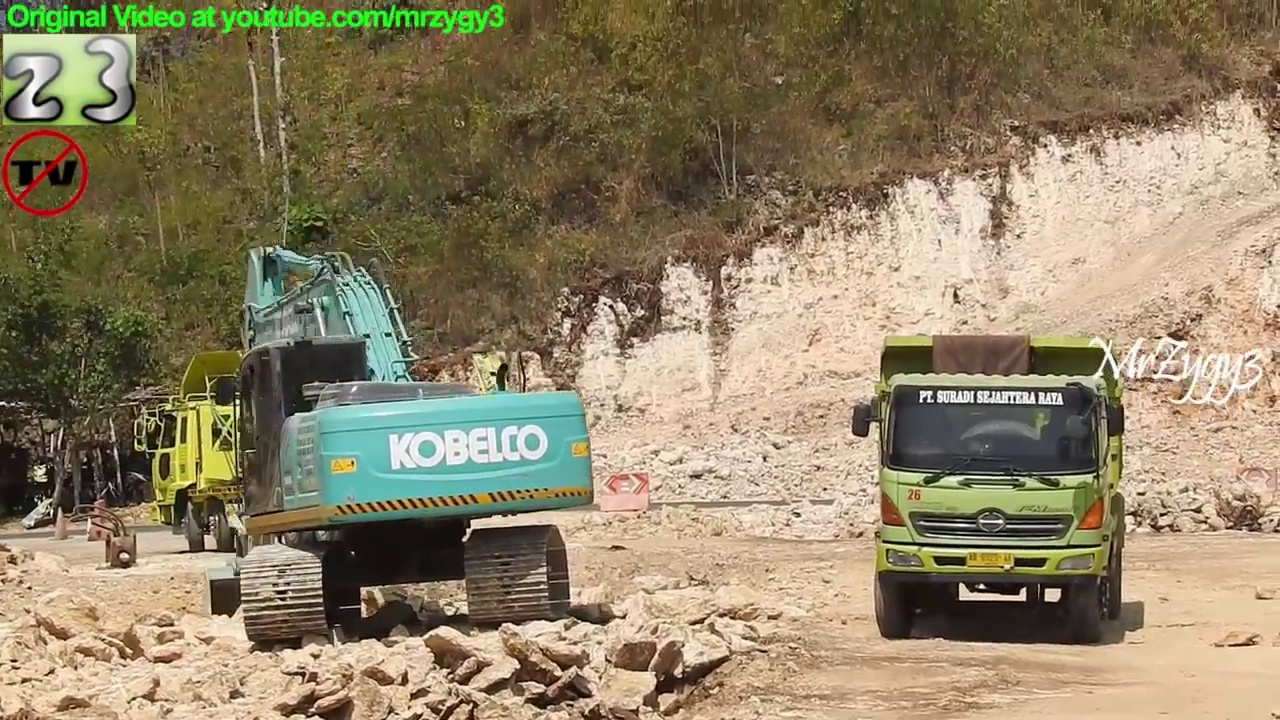excavator: (212, 238, 602, 650)
truck: (846, 331, 1130, 643), (127, 348, 544, 557)
